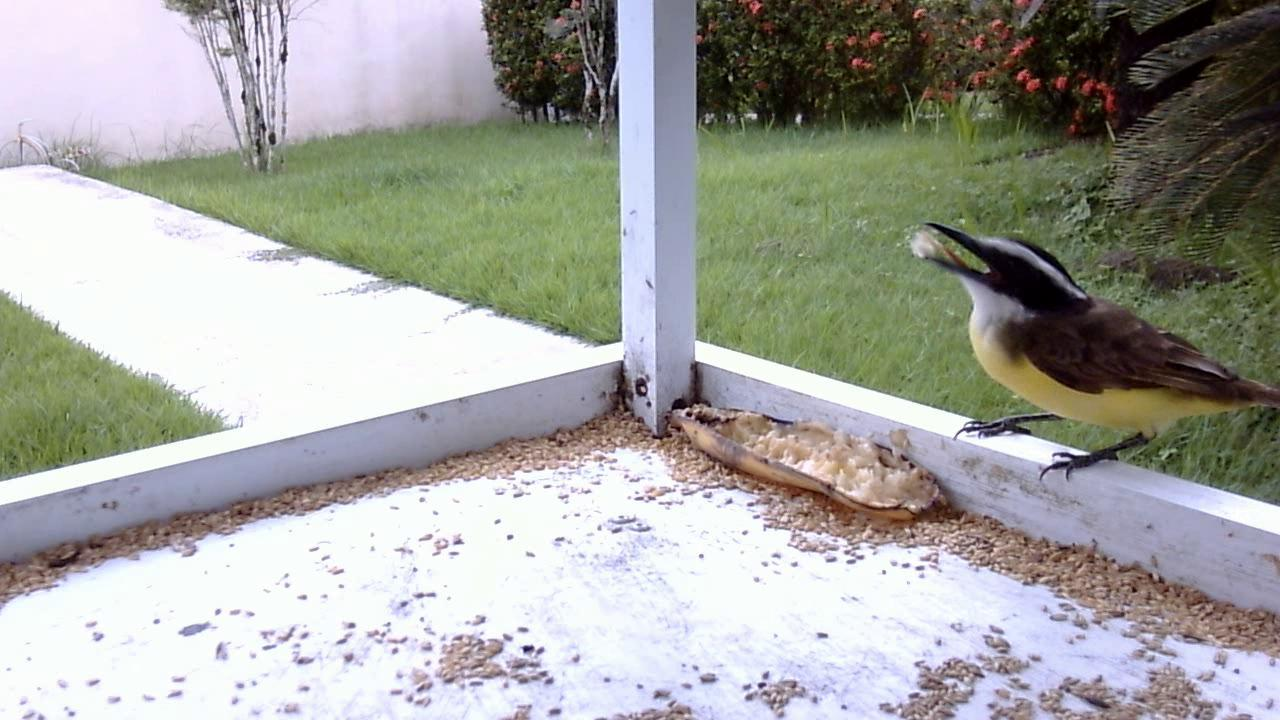bem_te_vi: (898, 214, 1280, 501)
